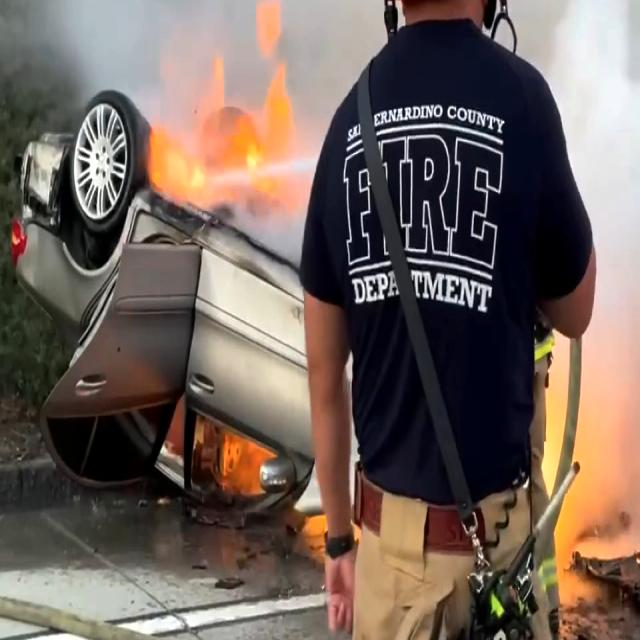fire: (151, 0, 298, 234)
